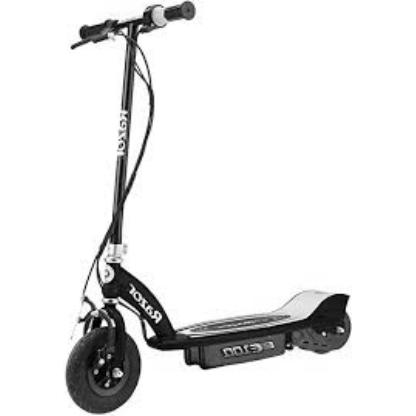bike: (63, 0, 352, 415)
